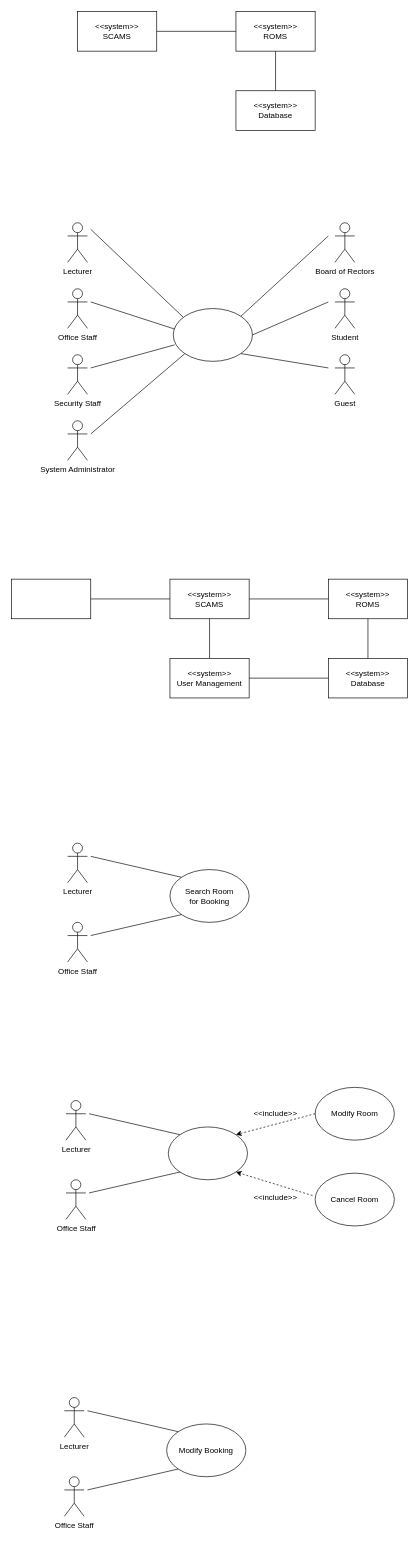
This 419x1552 diagram has some shape labels left out. The centre of each missing label's shape, as x and y in pixels:
"<<system>> Email Service" belongs at (51,598).
"Review Booking" belongs at (208,1153).
"Search Room Information" belongs at (212,334).
